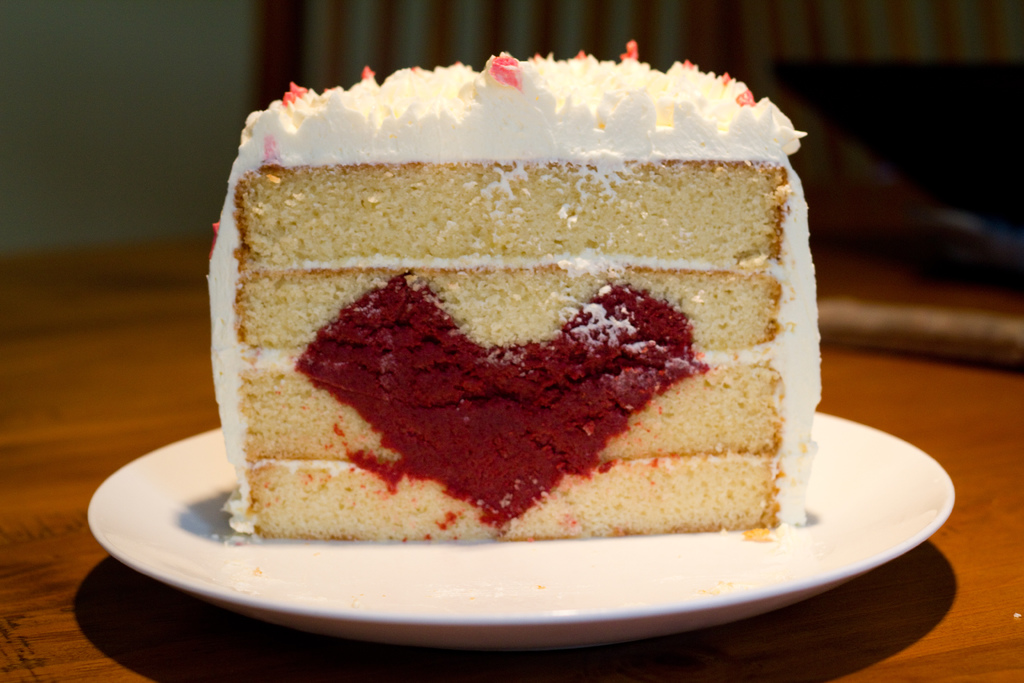cake: (203, 42, 808, 532)
